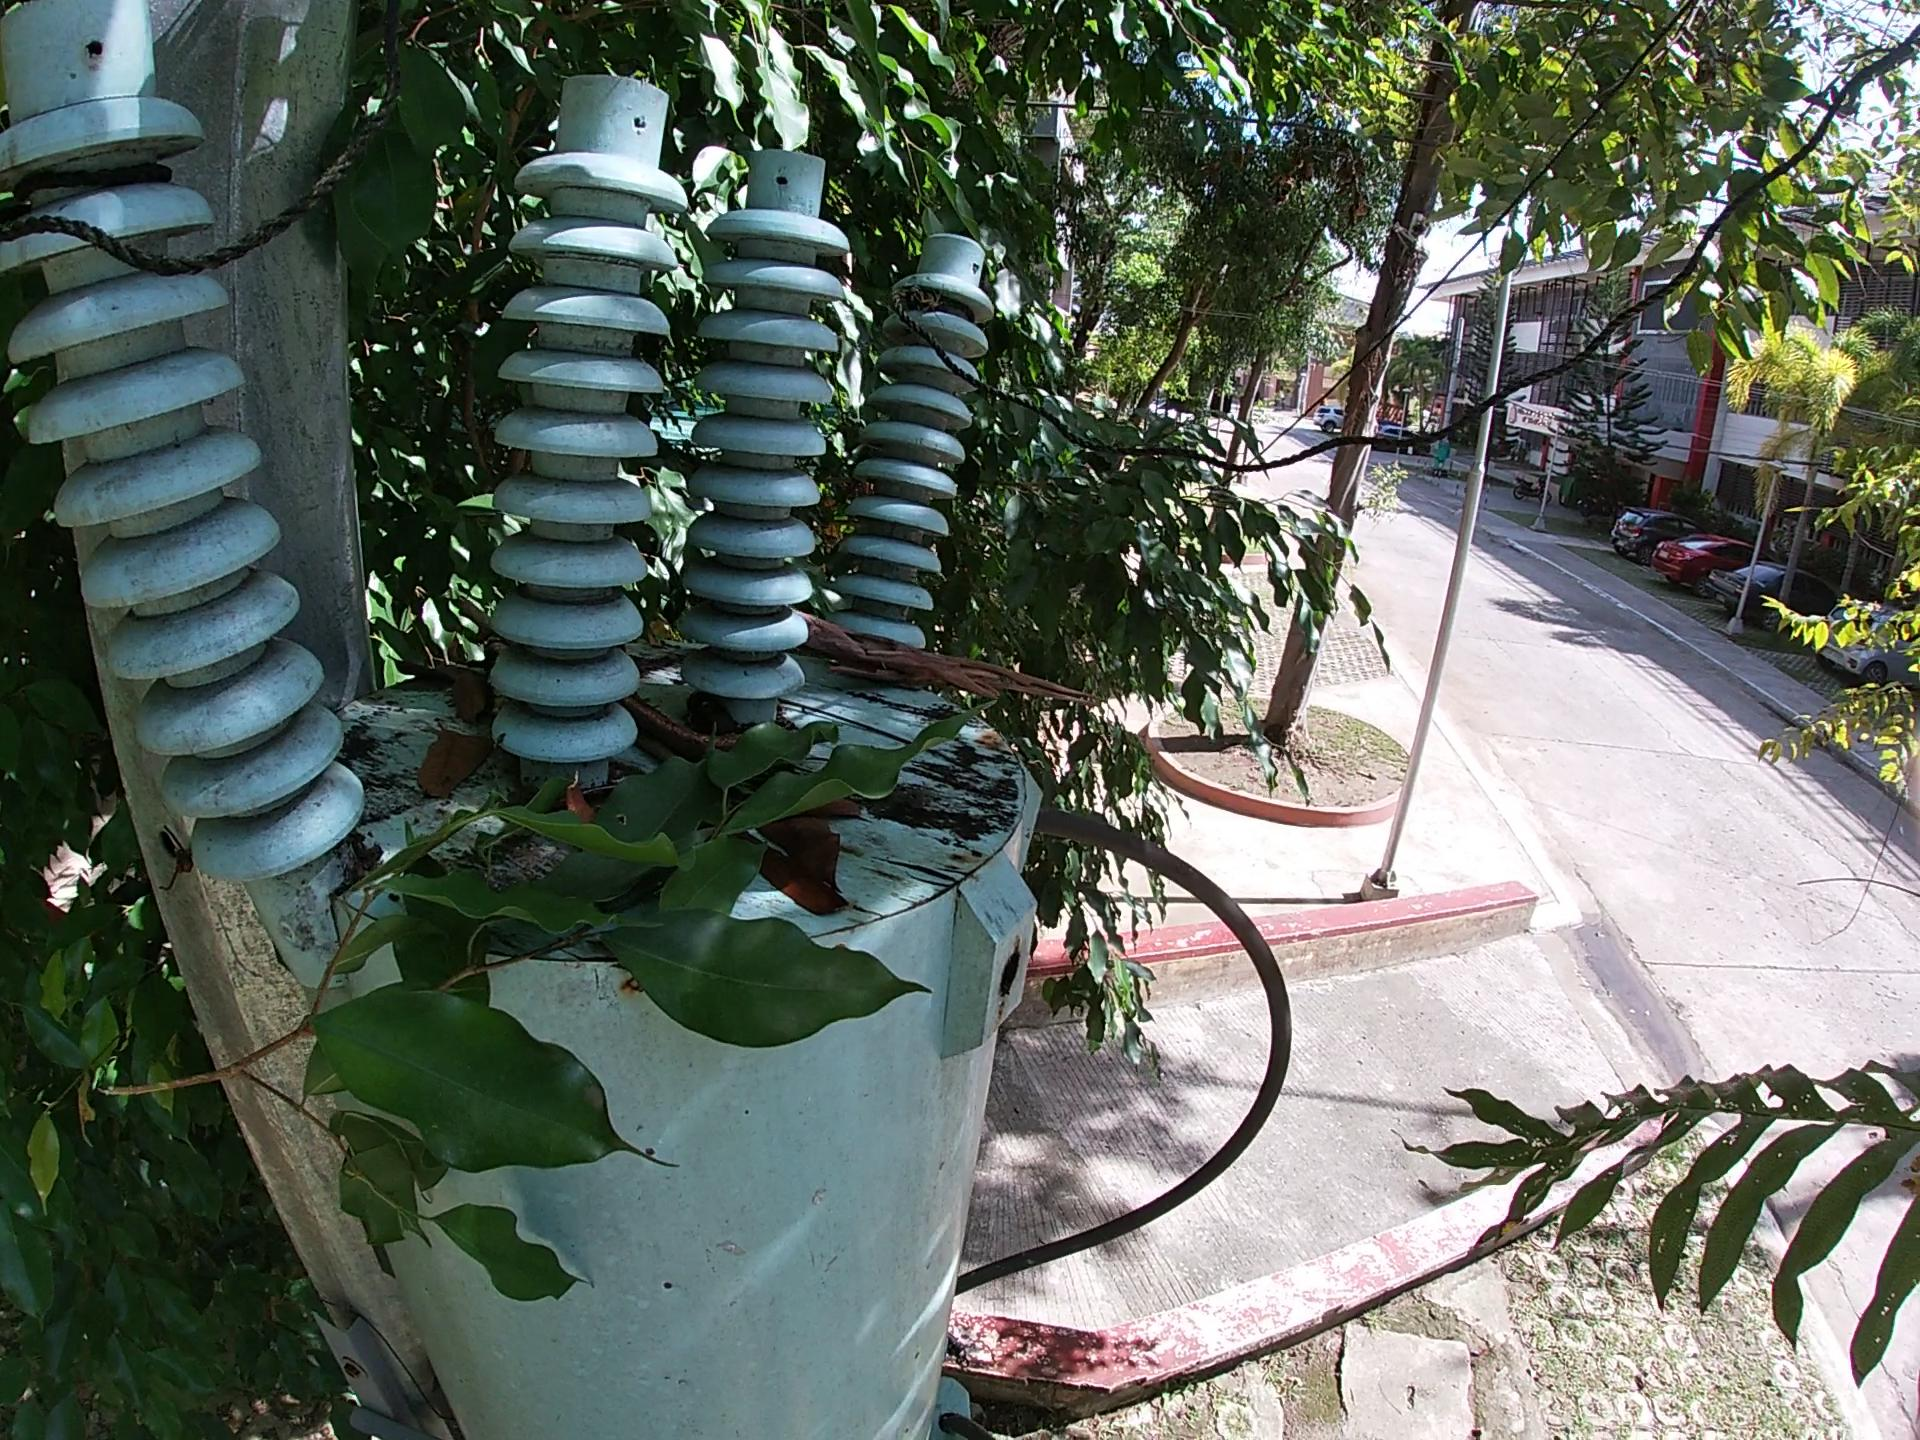branch with leaves: (92, 694, 1005, 1311)
leaf: (741, 830, 853, 920), (408, 709, 494, 808), (760, 815, 847, 889), (447, 666, 500, 728), (798, 796, 872, 821)
mahogany fruit: (623, 691, 741, 759), (559, 773, 599, 820)
tree branch: (786, 602, 1110, 718)
